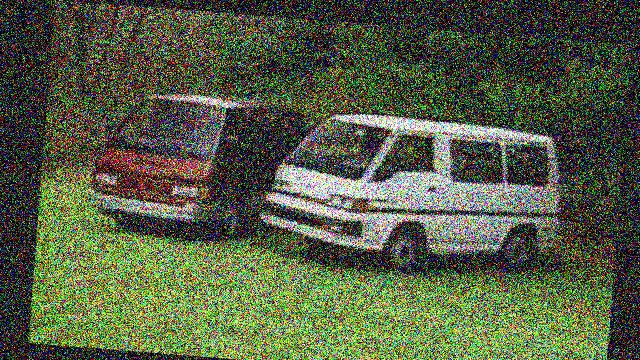van: (263, 105, 570, 289), (87, 83, 307, 239)
